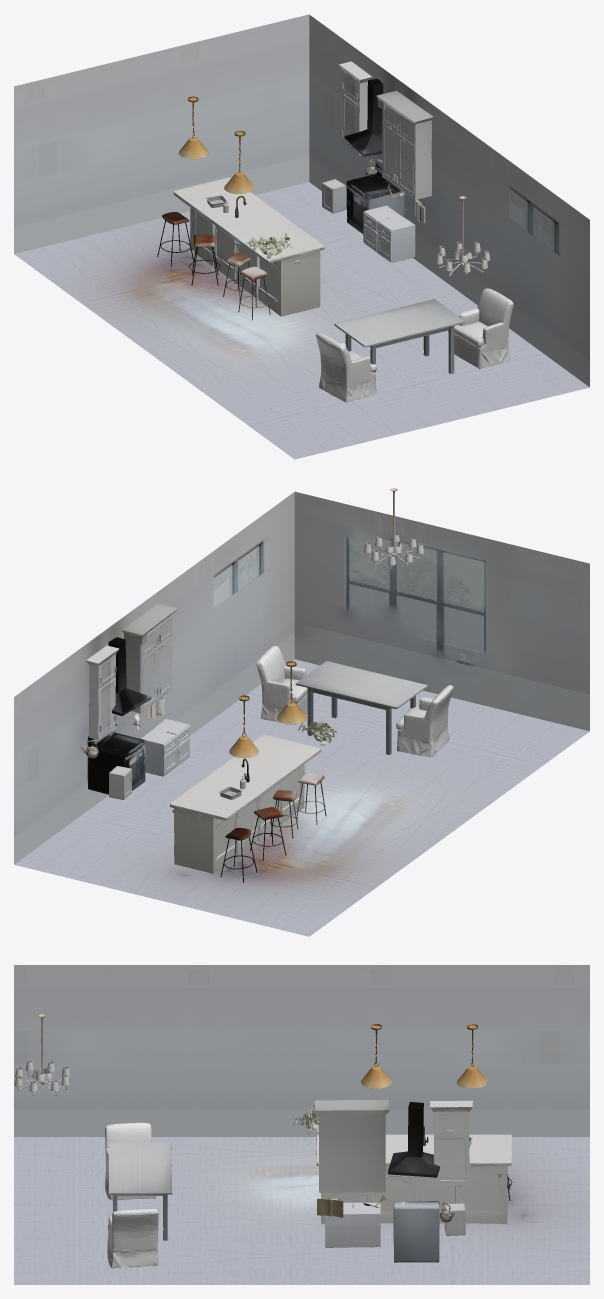
Rendered from scene_lite.glb.
3 renders of one model, top to bottom at view 1: azimuth 30°, elevation 25°; view 2: azimuth 150°, elevation 25°; view 3: azimuth 270°, elevation 25°, orthographic. The views are drawn at different scales.
Visible parts, largest first — view 1: room_floor, room_wall_z_min, room_wall_x_max, 014_kitchen_island, 024_wall_cabinet, 011_dining_table, 010_dining_chair, 009_dining_chair, 005_base_cabinets, 022_stove, 025_wall_cabinet, 019_range_hood (+6 smaller); view 2: room_floor, room_wall_z_max, room_wall_x_max, 014_kitchen_island, 011_dining_table, 024_wall_cabinet, 009_dining_chair, 022_stove, 010_dining_chair, 025_wall_cabinet, 005_base_cabinets, 019_range_hood (+4 smaller); view 3: room_wall_x_min, room_floor, 014_kitchen_island, 024_wall_cabinet, 011_dining_table, 025_wall_cabinet, 010_dining_chair, 022_stove, 005_base_cabinets, 019_range_hood, 009_dining_chair, 017_pendant_light (+4 smaller).
Part boxes in pixels (x1=…): room_floor: x1=14, y1=182, x2=589, y2=459; room_wall_z_min: x1=14, y1=14, x2=309, y2=253; room_wall_x_max: x1=309, y1=14, x2=589, y2=387; 014_kitchen_island: x1=173, y1=177, x2=324, y2=316; 024_wall_cabinet: x1=376, y1=90, x2=433, y2=199; 011_dining_table: x1=334, y1=299, x2=465, y2=373; 010_dining_chair: x1=454, y1=288, x2=513, y2=368; 009_dining_chair: x1=315, y1=332, x2=376, y2=402; 005_base_cabinets: x1=363, y1=205, x2=415, y2=262; 022_stove: x1=346, y1=159, x2=404, y2=233; 025_wall_cabinet: x1=339, y1=61, x2=372, y2=155; 019_range_hood: x1=344, y1=79, x2=383, y2=156; room_floor: x1=14, y1=659, x2=589, y2=936; room_wall_z_max: x1=294, y1=491, x2=589, y2=731; room_wall_x_max: x1=14, y1=492, x2=294, y2=864; 014_kitchen_island: x1=170, y1=735, x2=320, y2=873; 011_dining_table: x1=295, y1=661, x2=427, y2=754; 024_wall_cabinet: x1=121, y1=603, x2=177, y2=713; 009_dining_chair: x1=396, y1=685, x2=453, y2=757; 022_stove: x1=87, y1=720, x2=145, y2=794; 010_dining_chair: x1=256, y1=645, x2=307, y2=724; 025_wall_cabinet: x1=86, y1=645, x2=119, y2=739; 005_base_cabinets: x1=141, y1=719, x2=189, y2=776; 019_range_hood: x1=89, y1=637, x2=151, y2=715; room_wall_x_min: x1=14, y1=965, x2=589, y2=1136; room_floor: x1=14, y1=1137, x2=589, y2=1284; 014_kitchen_island: x1=316, y1=1134, x2=511, y2=1224; 024_wall_cabinet: x1=314, y1=1099, x2=389, y2=1192; 011_dining_table: x1=108, y1=1142, x2=172, y2=1240; 025_wall_cabinet: x1=430, y1=1100, x2=472, y2=1186; 010_dining_chair: x1=107, y1=1209, x2=158, y2=1268; 022_stove: x1=393, y1=1201, x2=439, y2=1262; 005_base_cabinets: x1=325, y1=1202, x2=380, y2=1247; 019_range_hood: x1=388, y1=1102, x2=439, y2=1177; 009_dining_chair: x1=105, y1=1122, x2=155, y2=1200; 017_pendant_light: x1=14, y1=1014, x2=69, y2=1095.
Bounding box in the file's own units: 2.36 × 1.59 × 3.89.
32 materials, 32 textured.
